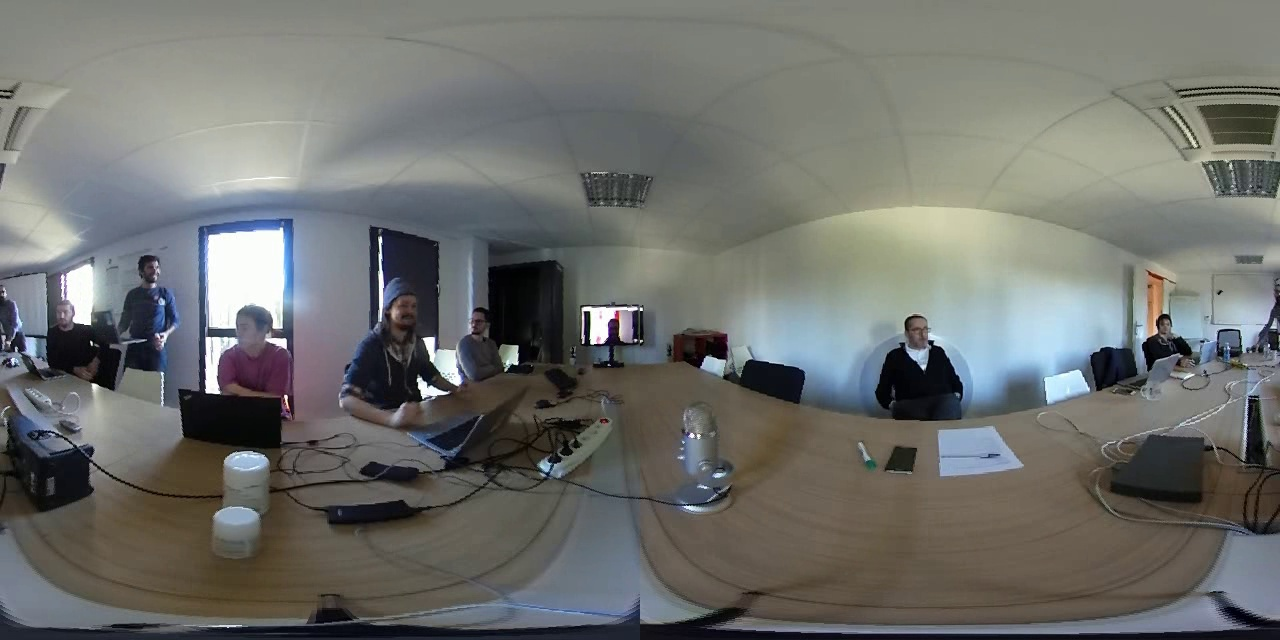person: (341, 274, 437, 429), (210, 294, 305, 404), (873, 309, 967, 416), (119, 248, 179, 365), (40, 295, 101, 373), (451, 298, 504, 385), (1140, 304, 1193, 353), (2, 279, 28, 365), (593, 309, 640, 347)
